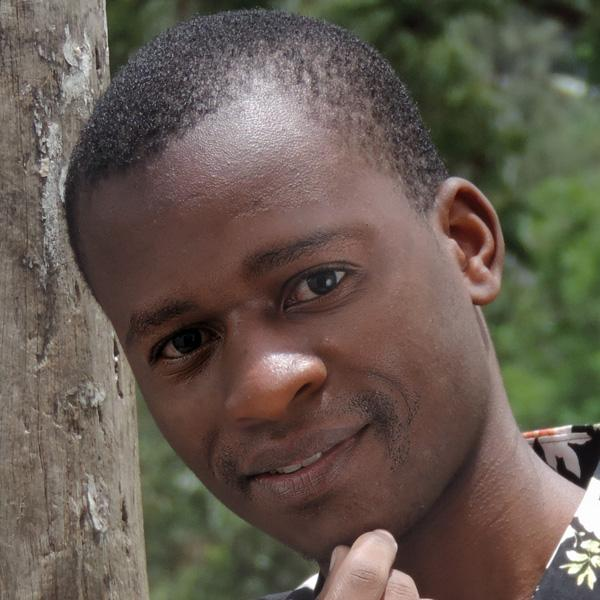Eyes: (272, 248, 368, 321), (143, 311, 229, 378)
